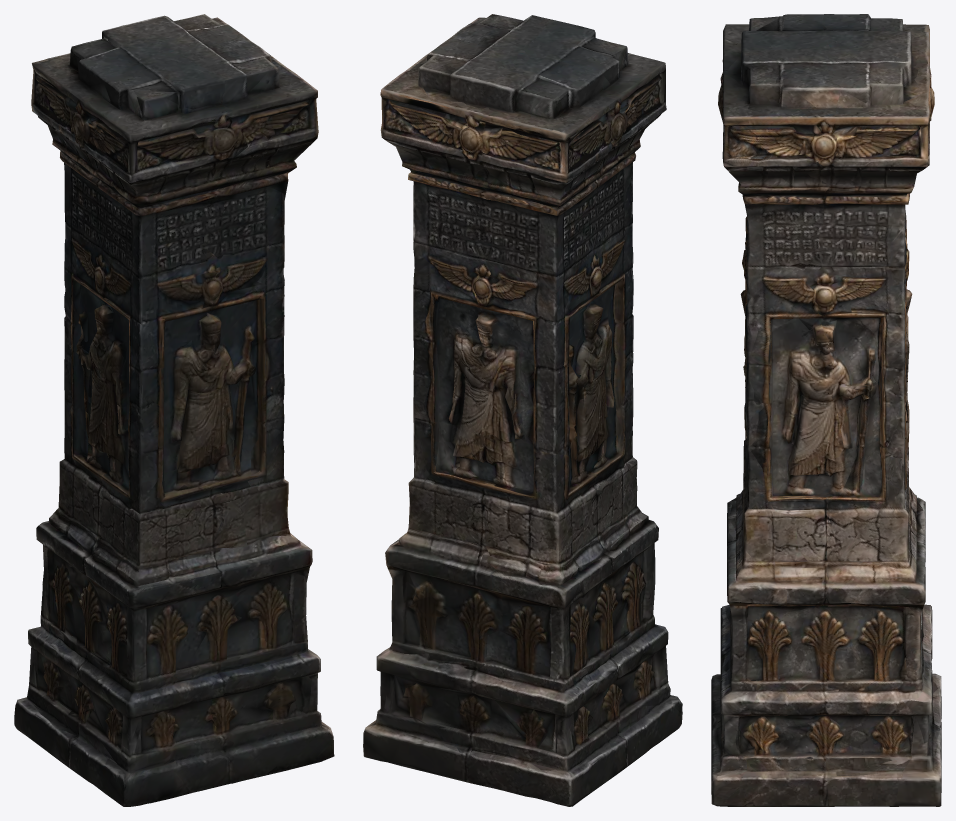
The model's file is architecture.glb.
3 views of the same model, side by side, from view 1: azimuth 30°, elevation 25°; view 2: azimuth 150°, elevation 25°; view 3: azimuth 270°, elevation 25° (orthographic). The views are drawn at different scales.
Parts seen in each view (by area): view 1: Harbor_Column, Harbor_Column_Far; view 2: Harbor_Column, Harbor_Column_Far; view 3: Harbor_Column, Harbor_Column_Far.
Part boxes in pixels (x1,y1,x2,y2): Harbor_Column: (14, 14, 334, 806); Harbor_Column_Far: (19, 18, 333, 803); Harbor_Column: (363, 14, 682, 806); Harbor_Column_Far: (368, 18, 682, 804); Harbor_Column: (711, 14, 941, 806); Harbor_Column_Far: (711, 16, 941, 806).
Size of the model in its own units: 0.3177 by 0.9999 by 0.2947.
Materials: 1 (1 with a texture image).
